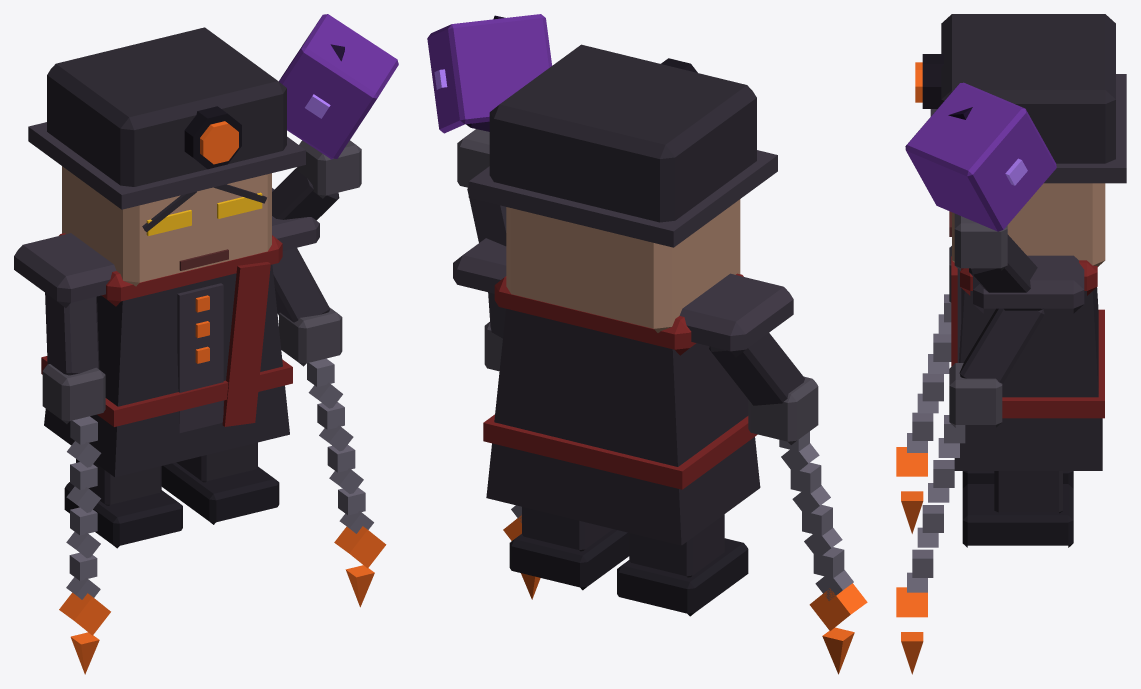
Rendered from r3_mini_foundry_overseer.glb.
The picture shows the model from 3 angles, left to right: view 1: azimuth 30°, elevation 25°; view 2: azimuth 150°, elevation 25°; view 3: azimuth 270°, elevation 25°; orthographic projection. The views are drawn at different scales.
Visible parts, largest first — view 1: r3_mini_foundry_overseer_mesh; view 2: r3_mini_foundry_overseer_mesh; view 3: r3_mini_foundry_overseer_mesh.
Boxes of the visible parts, <box> form: r3_mini_foundry_overseer_mesh: <box>14,14,398,674</box>; r3_mini_foundry_overseer_mesh: <box>427,14,867,674</box>; r3_mini_foundry_overseer_mesh: <box>896,14,1126,674</box>.
Size of the model in its own units: 3.07 by 4.5 by 1.63.
Materials: 1 (1 with a texture image).
